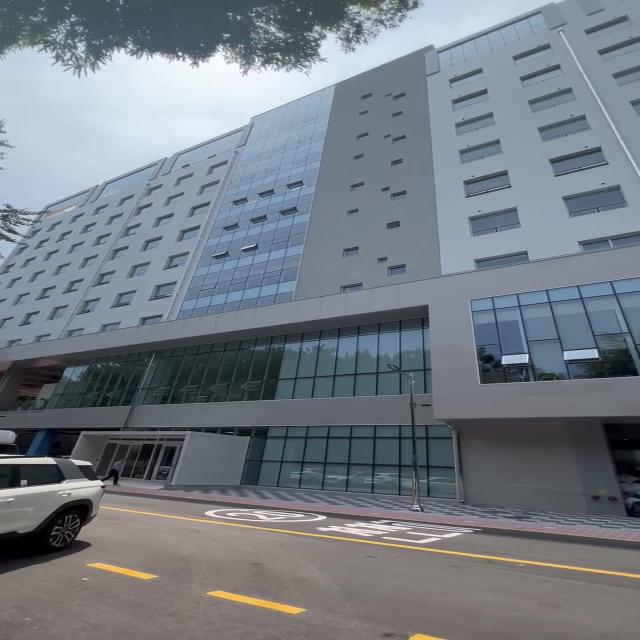building: (23, 108, 640, 462)
